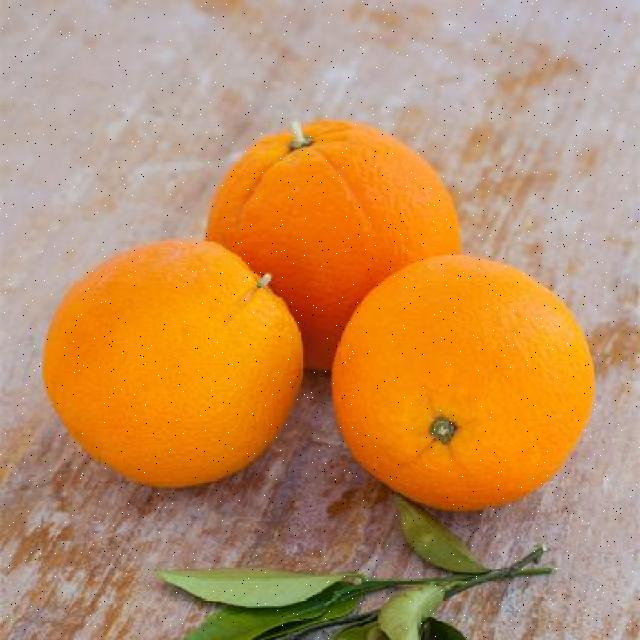Orange: (330, 252, 596, 512), (41, 236, 304, 490), (204, 115, 462, 371)
